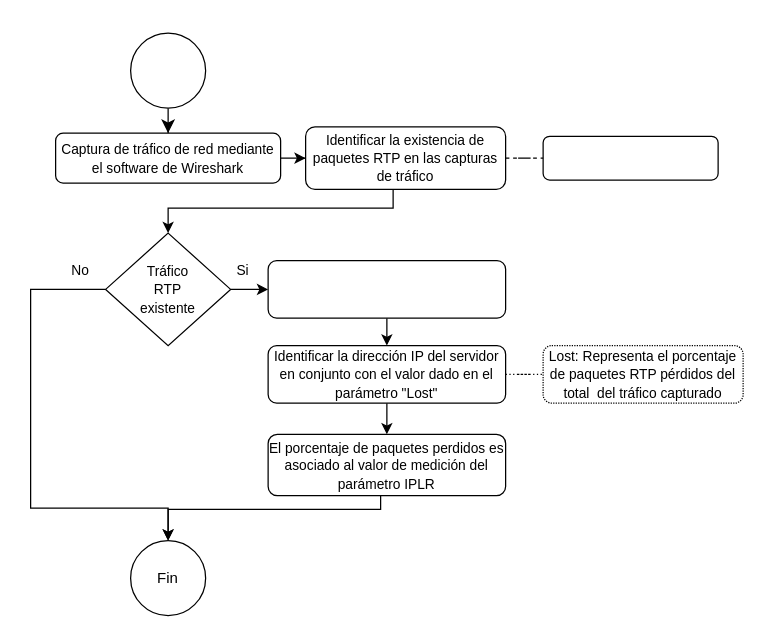
Image size: 765x638. Some labels were removed from this diagram. Each missing label, with the centre of its shape:
Análisis de paquetes mediante la herramienta "Secuencias RTP" de Wireshark: point (386, 288)
Filtro Wireshark rtp: point (630, 157)
Inicio: point (167, 70)
